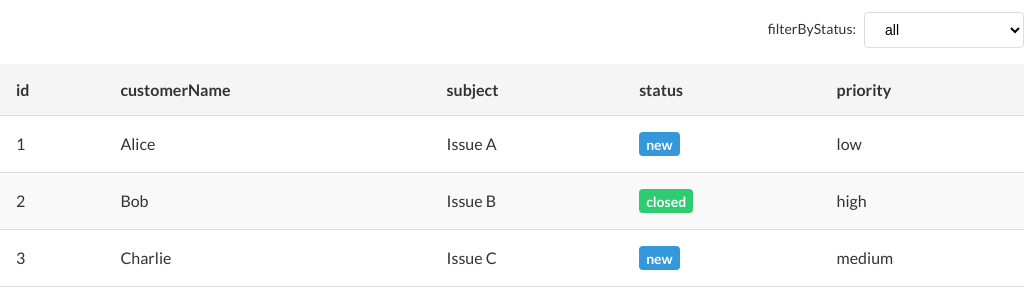
Test case: TicketsTable.vue › filters tickets when select value changes
expect the number of rows with class "ticket-row" is 3: met, box left=0, top=116, right=1024, bottom=172; left=0, top=172, right=1024, bottom=230; left=0, top=230, right=1024, bottom=286
Note: change select to 'new' and trigger change
Select "new" in the dropdown at (944, 30), box left=864, top=12, right=1024, bottom=48
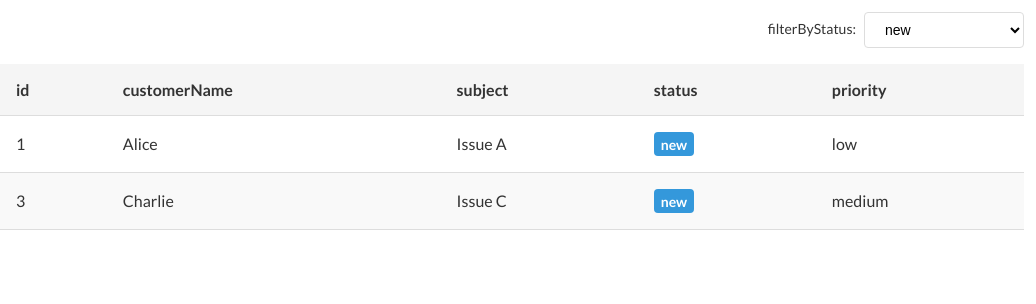
expect the number of rows with class "ticket-row" is 2: met, box left=0, top=116, right=1024, bottom=172; left=0, top=172, right=1024, bottom=230
